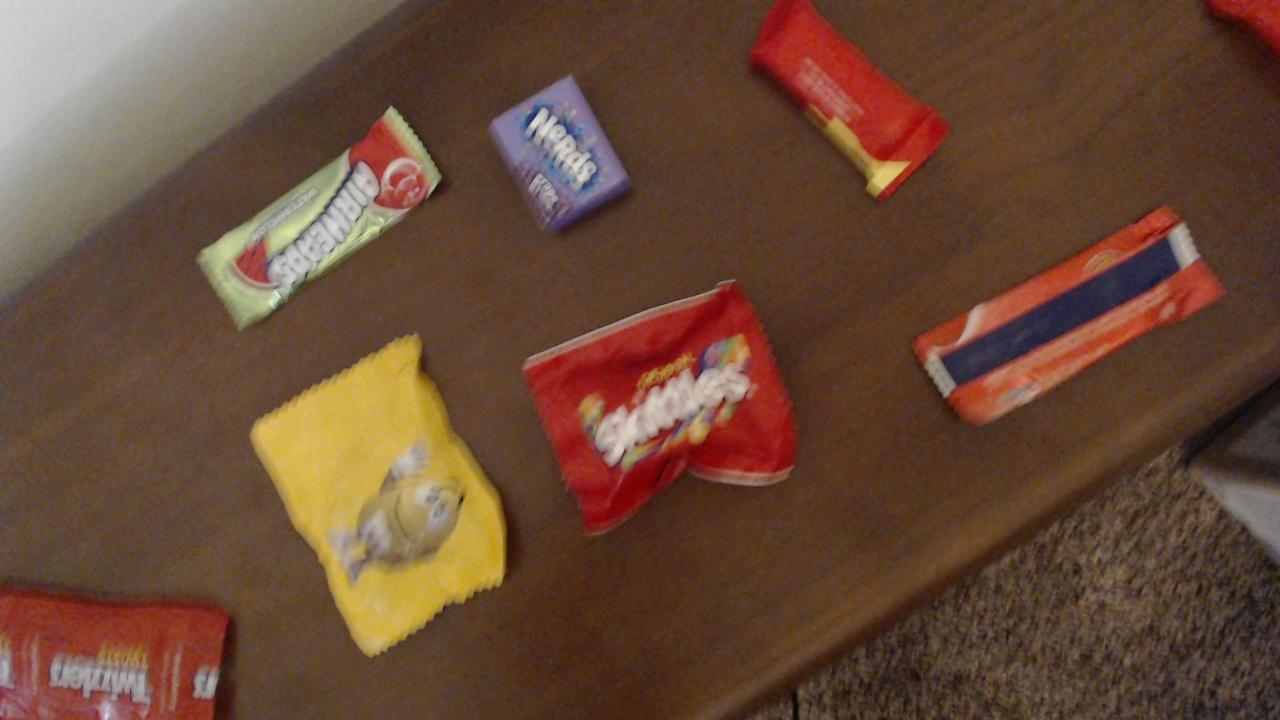MM_yellow: (250, 330, 510, 656)
airheads: (911, 205, 1227, 427), (197, 105, 445, 331)
nerds: (487, 75, 631, 236)
skittles: (522, 277, 800, 537)
starburst: (754, 2, 947, 201)
twizzlers: (0, 587, 232, 720)
